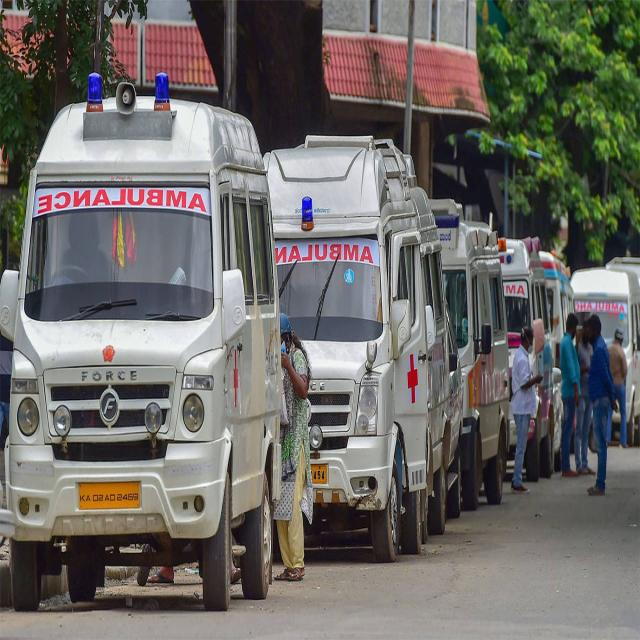Ambulance: (7, 23, 272, 640), (265, 95, 455, 550)
